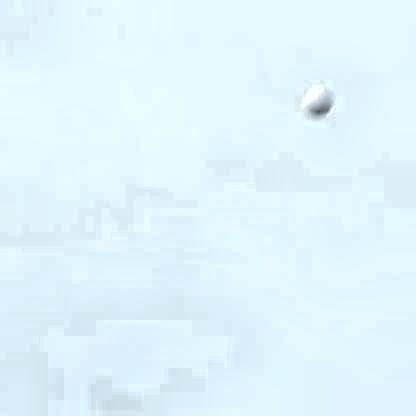golfball: (298, 81, 329, 114)
